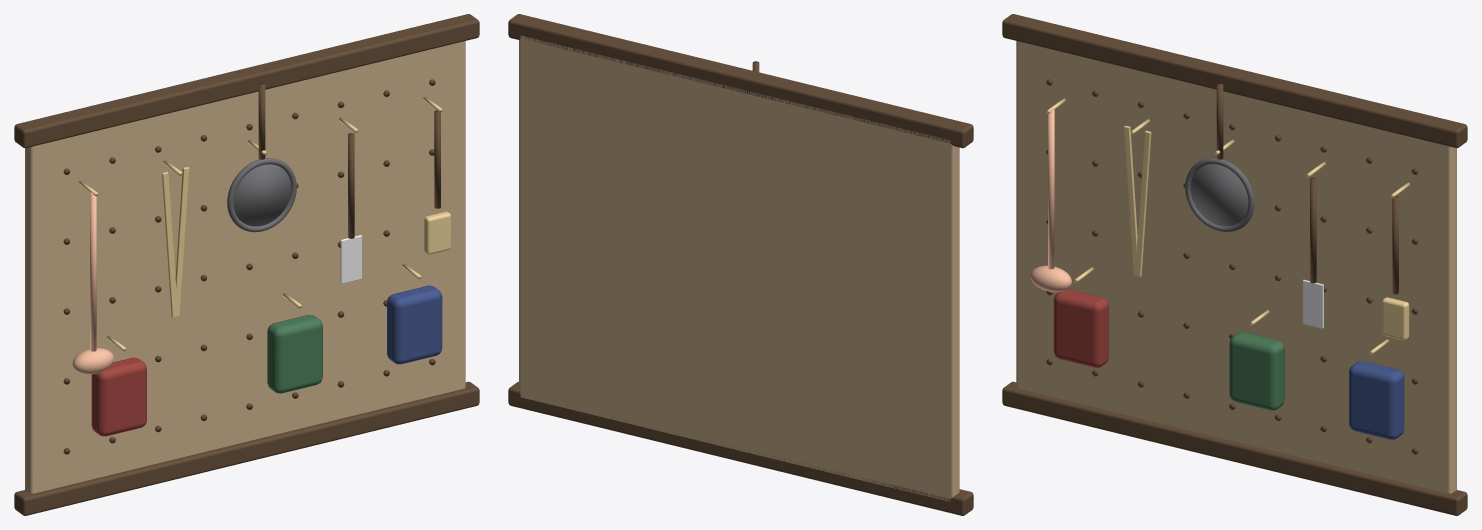
Rendered from tool_pegboard.gltf.
3 renders of one model, left to right at view 1: azimuth 30°, elevation 25°; view 2: azimuth 150°, elevation 25°; view 3: azimuth 330°, elevation 25°, orthographic.
Parts seen in each view (by area): view 1: Board, Frame, FrameB, Pouch2, Pouch1, Pouch0, SieveMesh, SieveRim, LadleHandle, ScoopBlade, Tong-1, Tong1 (+5 smaller); view 2: Board, Frame, FrameB; view 3: Board, Frame, FrameB, Pouch2, Pouch1, Pouch0, SieveMesh, SieveRim, LadleHandle, ScoopBlade, Tong1, Tong-1 (+5 smaller).
Boxes of the visible parts, <box> form: Board: <box>25,41,465,493</box>; Frame: <box>14,14,479,148</box>; FrameB: <box>14,381,479,515</box>; Pouch2: <box>387,285,442,364</box>; Pouch1: <box>267,315,322,393</box>; Pouch0: <box>91,357,146,436</box>; SieveMesh: <box>233,164,291,226</box>; SieveRim: <box>227,158,296,232</box>; LadleHandle: <box>90,191,96,351</box>; ScoopBlade: <box>424,211,451,254</box>; Tong-1: <box>162,171,176,317</box>; Tong1: <box>175,167,189,316</box>; Board: <box>519,35,959,501</box>; Frame: <box>508,14,973,148</box>; FrameB: <box>508,382,973,515</box>; Board: <box>1016,41,1456,493</box>; Frame: <box>1002,14,1467,148</box>; FrameB: <box>1002,381,1467,515</box>; Pouch2: <box>1349,361,1404,439</box>; Pouch1: <box>1229,332,1284,410</box>; Pouch0: <box>1053,289,1108,367</box>; SieveMesh: <box>1190,164,1248,226</box>; SieveRim: <box>1185,158,1254,232</box>; LadleHandle: <box>1048,109,1054,269</box>; ScoopBlade: <box>1382,297,1409,340</box>; Tong1: <box>1137,130,1151,276</box>; Tong-1: <box>1124,125,1138,275</box>.
Bounding box in the file's own units: 0.65 × 0.525 × 0.0668.
